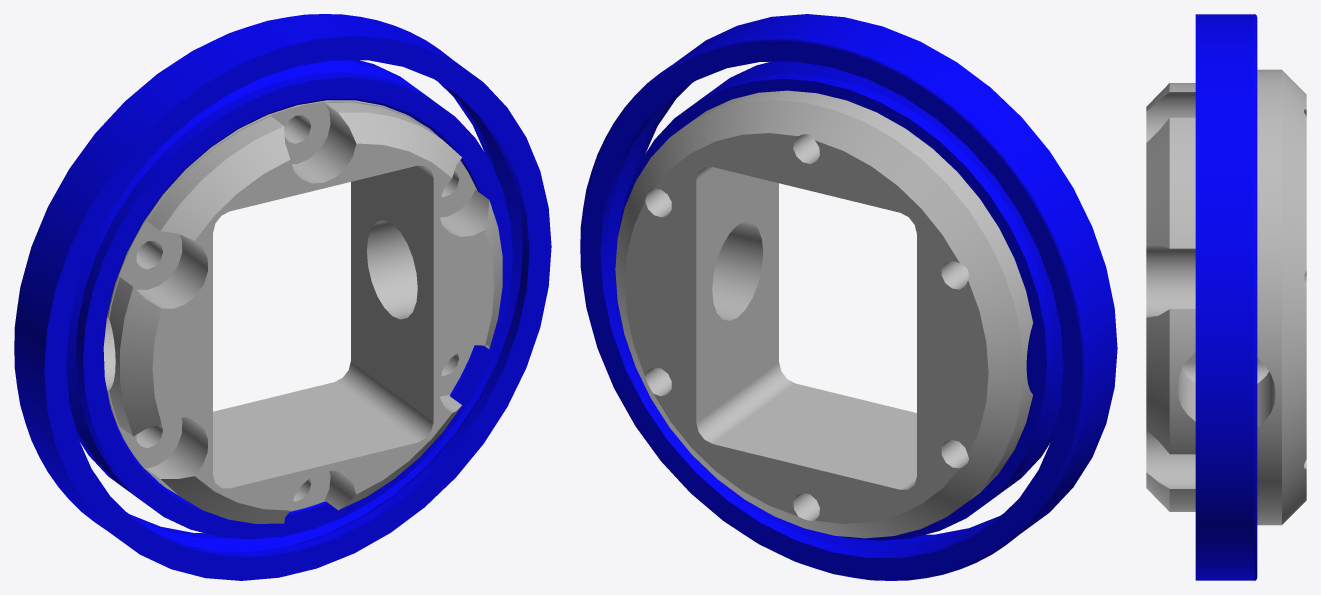
File: WAIST_LINK2_mesh.dae
3 views of the same model, side by side, from view 1: azimuth 30°, elevation 25°; view 2: azimuth 150°, elevation 25°; view 3: azimuth 270°, elevation 25° (orthographic). The views are drawn at different scales.
Visible parts, largest first — view 1: サーフェス1_ncl1_2, サーフェス1, サーフェス1_ncl1_1; view 2: サーフェス1_ncl1_2, サーフェス1, サーフェス1_ncl1_1; view 3: サーフェス1_ncl1_2, サーフェス1.
Part boxes in pixels (bbox=[...]): サーフェス1_ncl1_2: bbox=[103, 100, 502, 523]; サーフェス1: bbox=[14, 14, 551, 580]; サーフェス1_ncl1_1: bbox=[66, 60, 512, 539]; サーフェス1_ncl1_2: bbox=[615, 90, 1032, 538]; サーフェス1: bbox=[580, 14, 1117, 580]; サーフェス1_ncl1_1: bbox=[619, 61, 1063, 540]; サーフェス1_ncl1_2: bbox=[1146, 69, 1306, 525]; サーフェス1: bbox=[1195, 14, 1257, 580].
Bounding box in the file's own units: 0.046 × 0.013 × 0.046.
